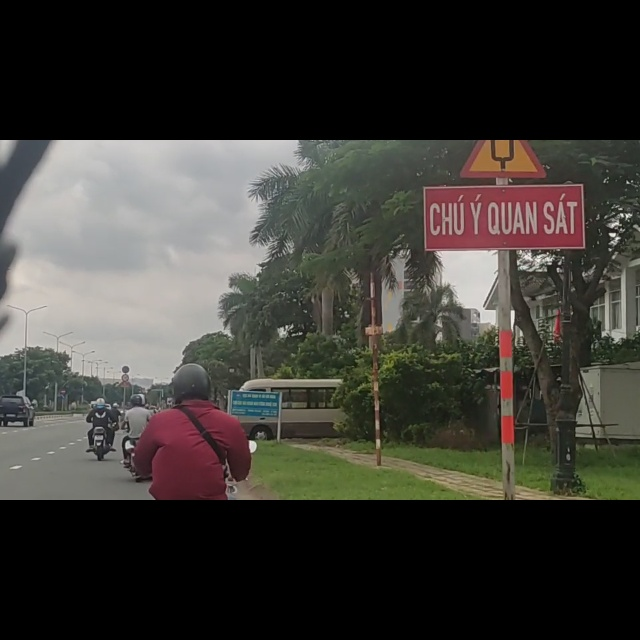bien_nguy_hiem: (461, 1, 547, 71), (121, 401, 130, 415), (60, 442, 67, 452), (61, 452, 66, 461)
